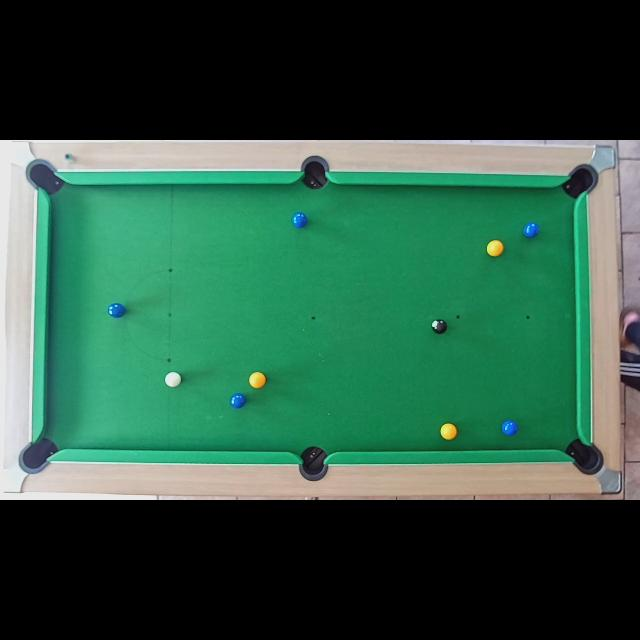Ball: (486, 238, 504, 258), (249, 371, 267, 389), (440, 423, 458, 441), (522, 222, 540, 238), (501, 421, 519, 437), (230, 393, 247, 409), (165, 372, 181, 388), (291, 212, 307, 228), (432, 320, 448, 334), (109, 304, 125, 318)
